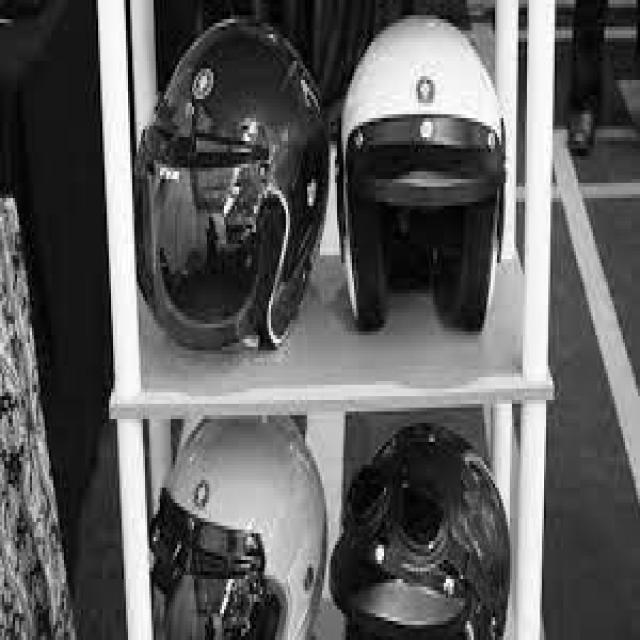Helmet: (135, 21, 325, 349), (344, 19, 502, 330), (151, 416, 325, 639), (331, 422, 509, 639)
